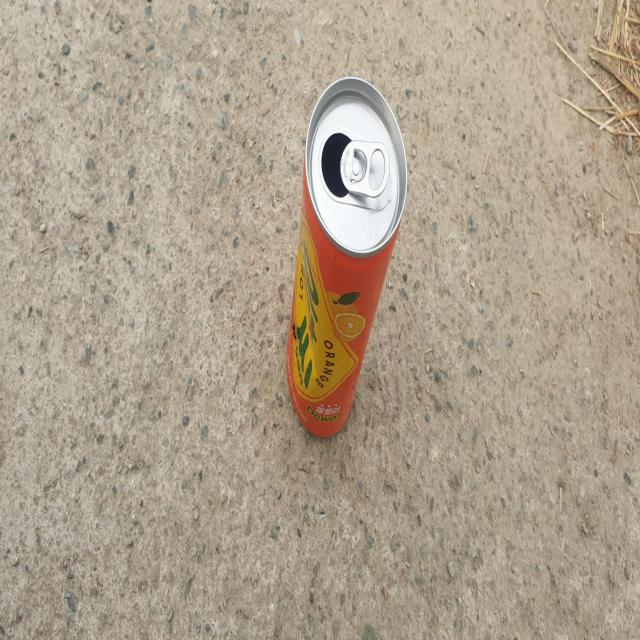can: (287, 75, 408, 436)
